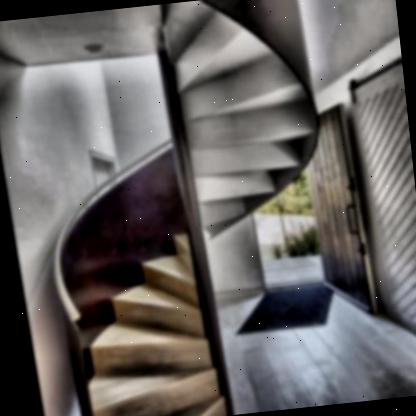stair: (68, 219, 228, 416)
